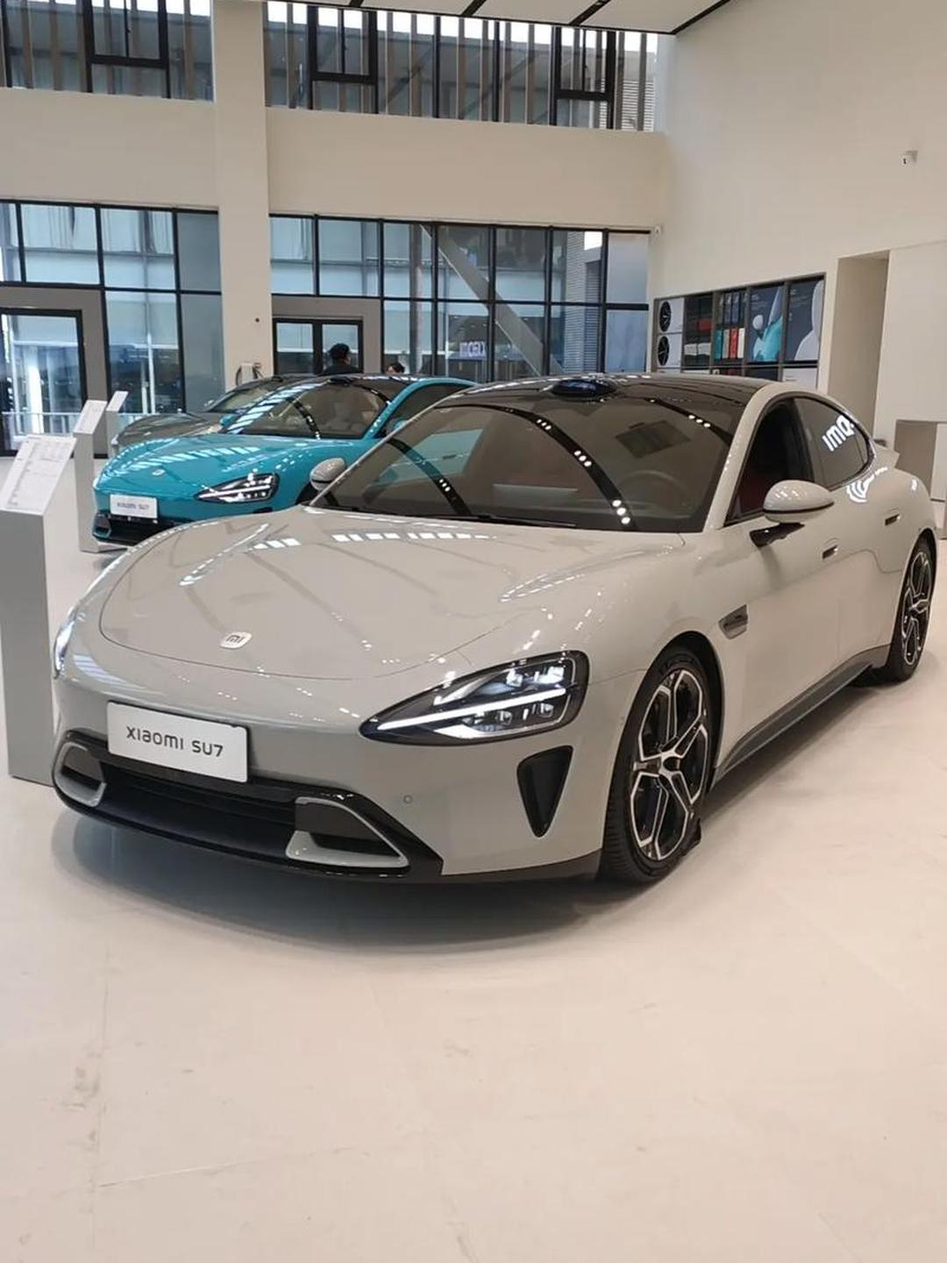su7: (74, 376, 931, 895), (96, 385, 458, 548)
